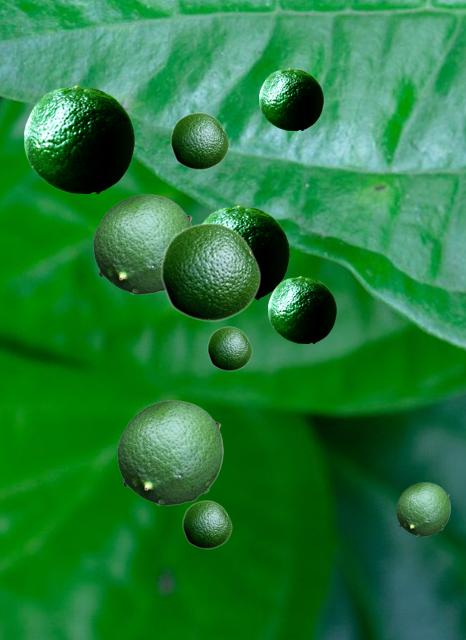calamansi: (24, 85, 133, 192), (117, 400, 222, 504), (160, 222, 260, 321), (93, 194, 192, 293), (202, 205, 288, 298), (268, 276, 335, 342), (259, 68, 322, 129), (170, 112, 228, 169), (396, 482, 449, 535), (182, 500, 231, 548), (207, 326, 251, 370)
